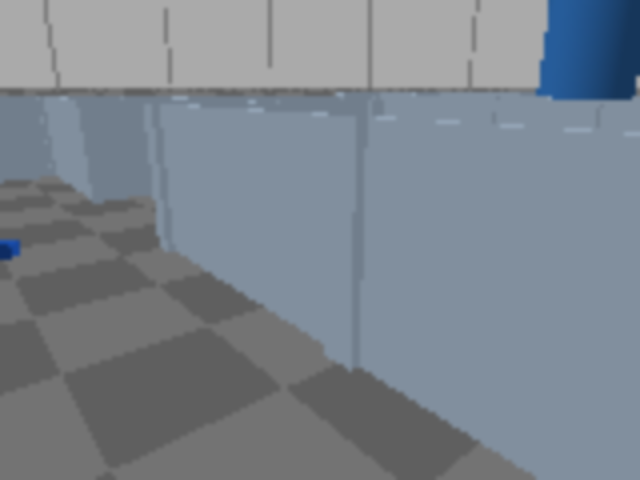puck: (0, 241, 22, 259)
